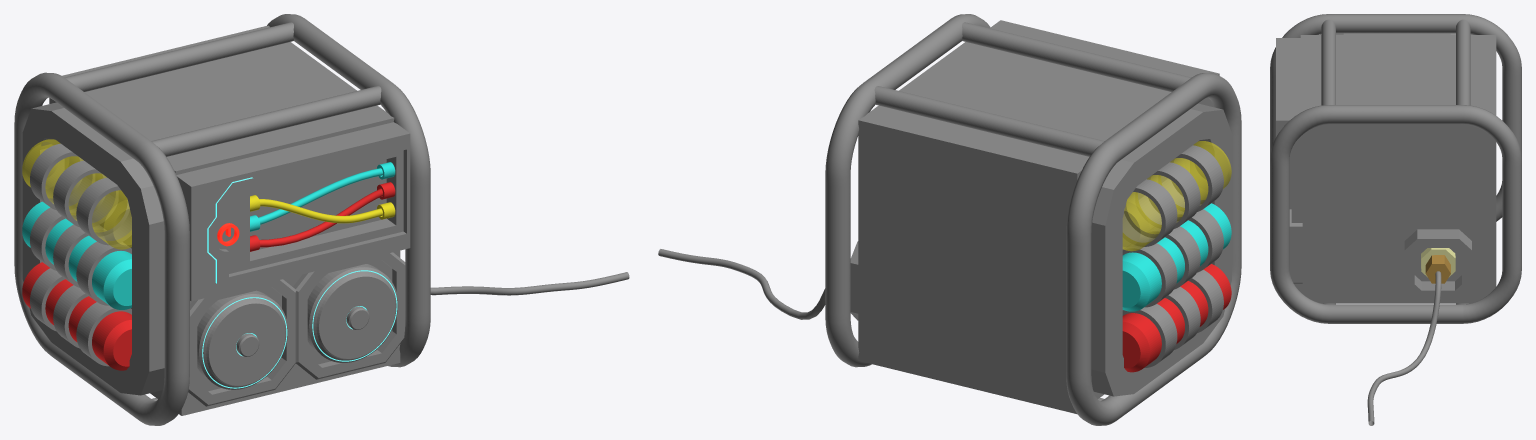
The model's file is full generator.fbx.
3 views of the same model, side by side, from view 1: azimuth 30°, elevation 25°; view 2: azimuth 150°, elevation 25°; view 3: azimuth 270°, elevation 25° (orthographic). The views are drawn at different scales.
Parts seen in each view (by area): view 1: panel, BézierCurve, Cube, Cube.002, Cylinder, Cylinder.001, Cylinder.002, Cylinder.003, Cylinder.004, Cylinder.005, Cube.005, Cube.001 (+6 smaller); view 2: Cube, BézierCurve, Cube.002, Cylinder, Cylinder.003, Cylinder.004, Cylinder.005, panel, BézierCurve.001, Cube.003; view 3: Cube, BézierCurve, Cube.003, panel, Cylinder, BézierCurve.001, Cube.005, Cylinder.007, Cylinder.006.
Boxes of the visible parts, x1,y1,x2,y2 form: panel: (176, 122, 410, 301); BézierCurve: (14, 14, 430, 425); Cube: (49, 25, 394, 398); Cube.002: (22, 102, 164, 395); Cylinder: (64, 22, 381, 400); Cylinder.001: (307, 264, 398, 362); Cylinder.002: (197, 290, 288, 389); Cylinder.003: (22, 139, 131, 249); Cylinder.004: (22, 201, 131, 309); Cylinder.005: (22, 262, 131, 370); Cube.005: (293, 252, 405, 379); Cube.001: (188, 279, 296, 406); Cube: (858, 42, 1203, 414); BézierCurve: (825, 14, 1241, 425); Cube.002: (1091, 103, 1231, 396); Cylinder: (874, 22, 1191, 400); Cylinder.003: (1122, 141, 1231, 251); Cylinder.004: (1122, 203, 1231, 311); Cylinder.005: (1122, 264, 1231, 372); panel: (990, 20, 1219, 107); BézierCurve.001: (658, 249, 825, 319); Cube.003: (850, 241, 858, 320); Cube: (1300, 35, 1496, 303); BézierCurve: (1270, 14, 1521, 323); Cube.003: (1404, 229, 1471, 299); panel: (1276, 38, 1300, 209); Cylinder: (1321, 19, 1470, 304); BézierCurve.001: (1367, 271, 1441, 425); Cube.005: (1289, 209, 1302, 283); Cylinder.007: (1425, 255, 1450, 283); Cylinder.006: (1421, 248, 1455, 277).
Bounding box in the file's own units: 1008 × 494 × 515.
